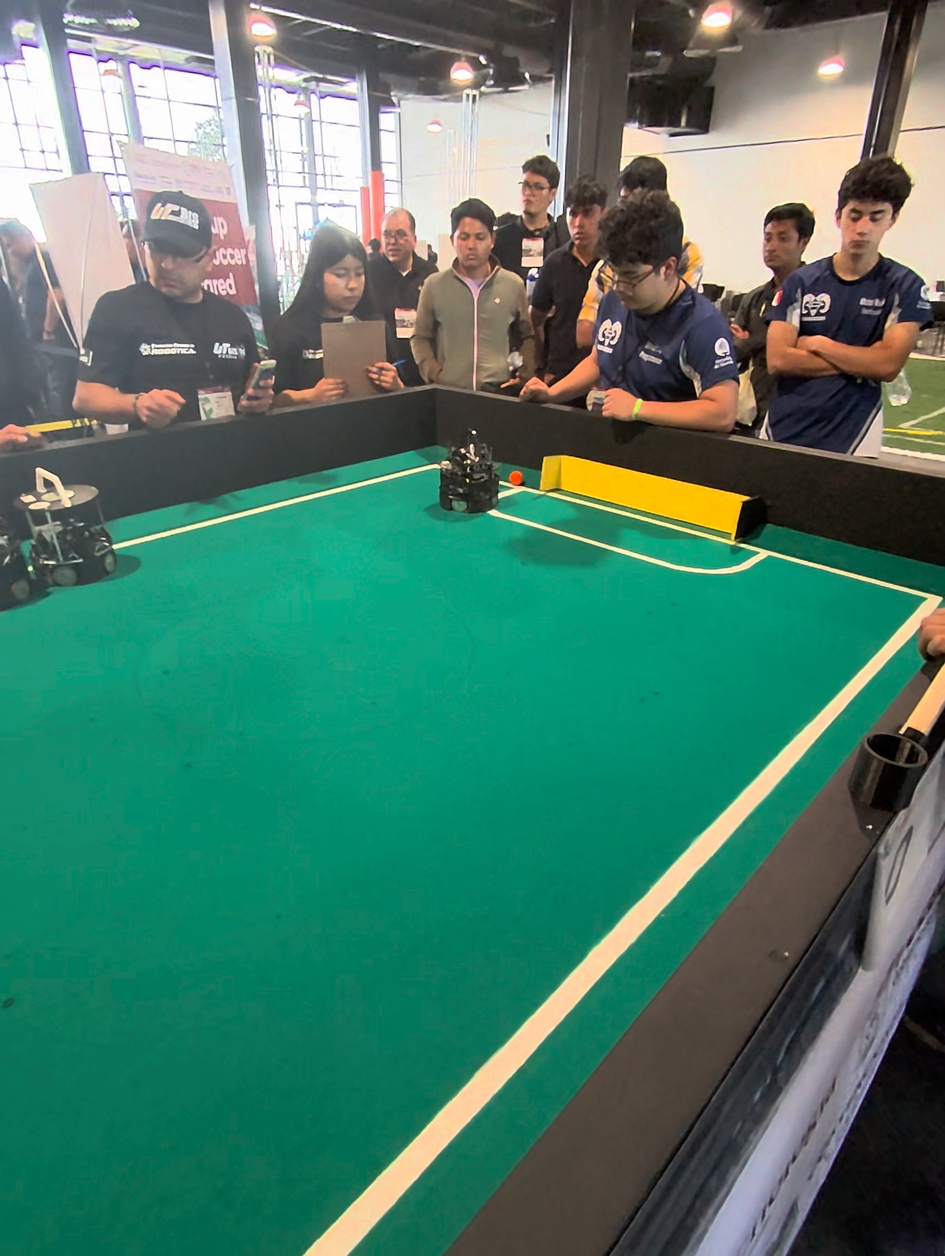Robot: (17, 465, 119, 598), (437, 428, 503, 520)
pelota: (505, 463, 535, 489)
